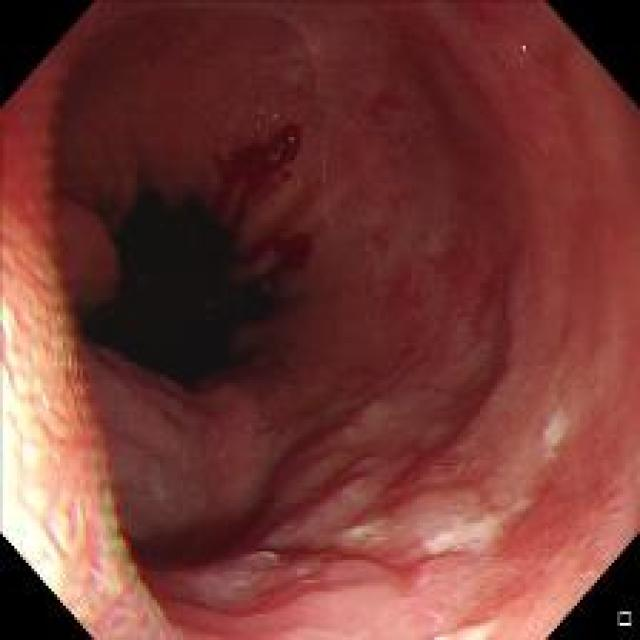blood: (212, 116, 309, 198)
color misalignment: (58, 321, 94, 436), (100, 484, 135, 576), (41, 106, 61, 266), (139, 582, 168, 629)
contrast: (69, 138, 299, 399)
saturation: (2, 396, 50, 546)
specularity: (508, 34, 535, 66)
